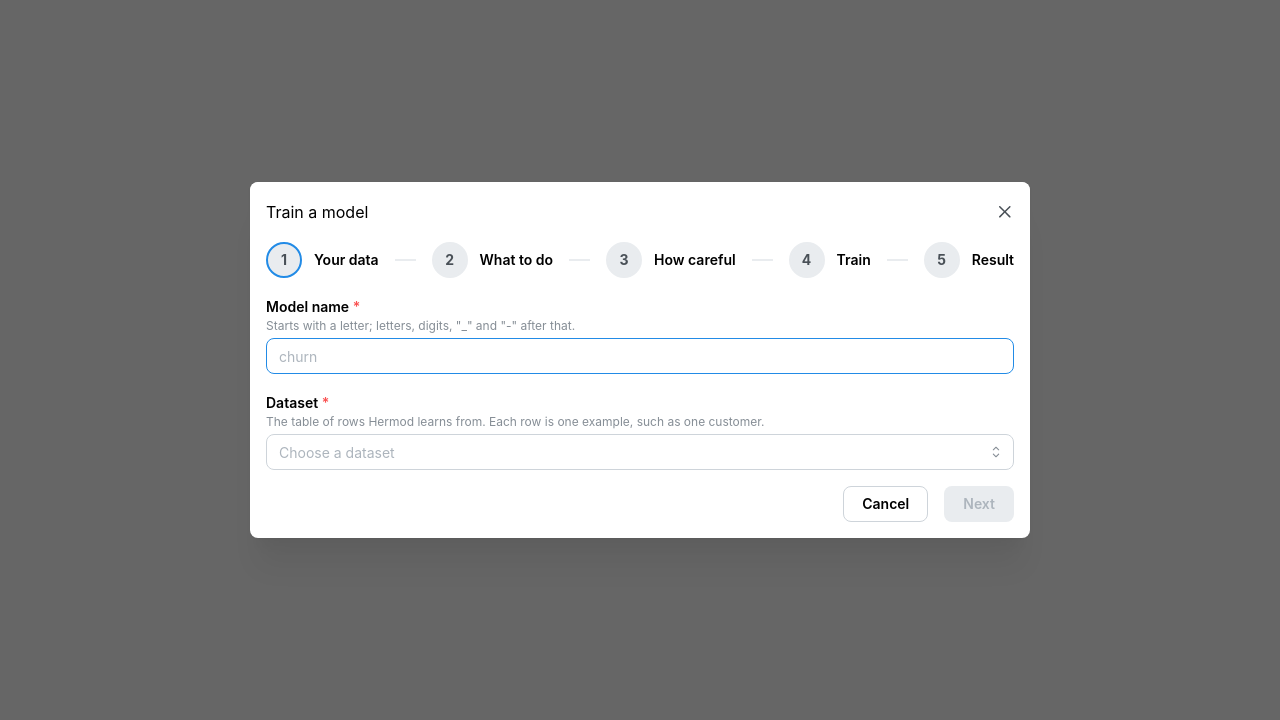
the checklist in the train flow › too few rows is red: Next is disabled and says why
The width and height of the screenshot is (1280, 720).
Type "m1" into the field labelled "Model name *" at point(640, 356), box [266,338,1014,374]
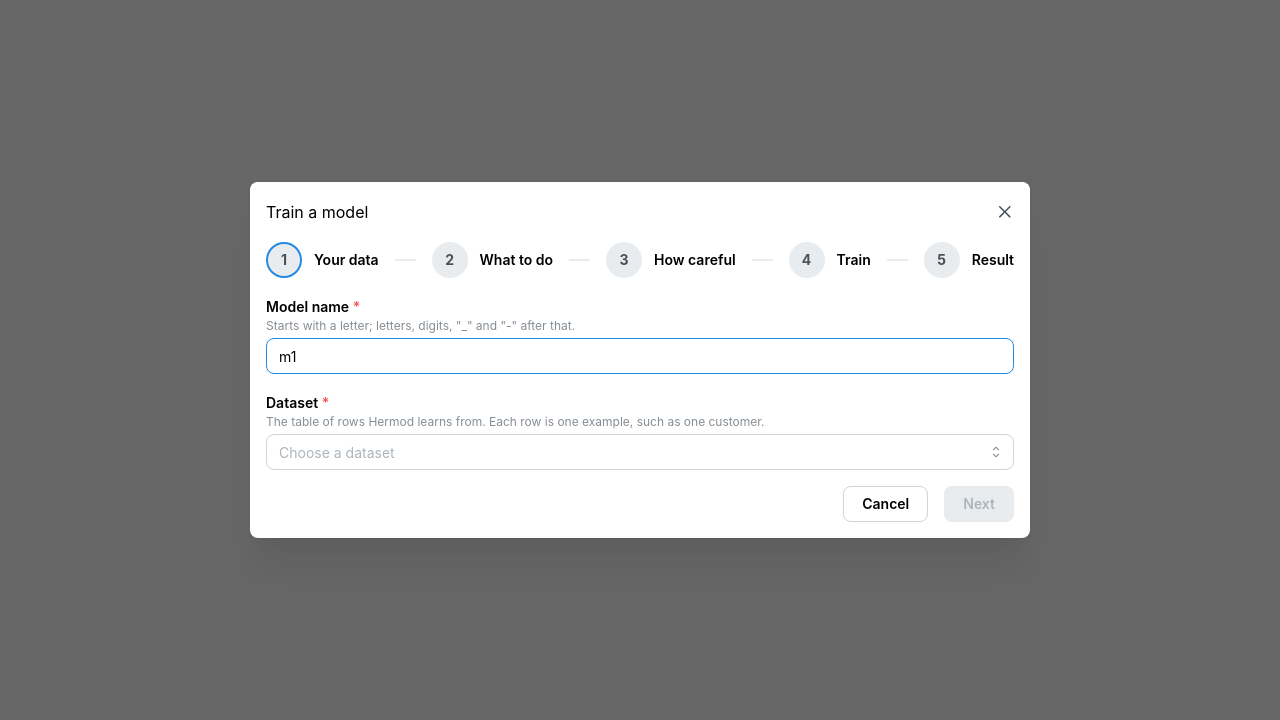
Click the dropdown labelled "Dataset *" at point(640, 452), box [266,434,1014,470]
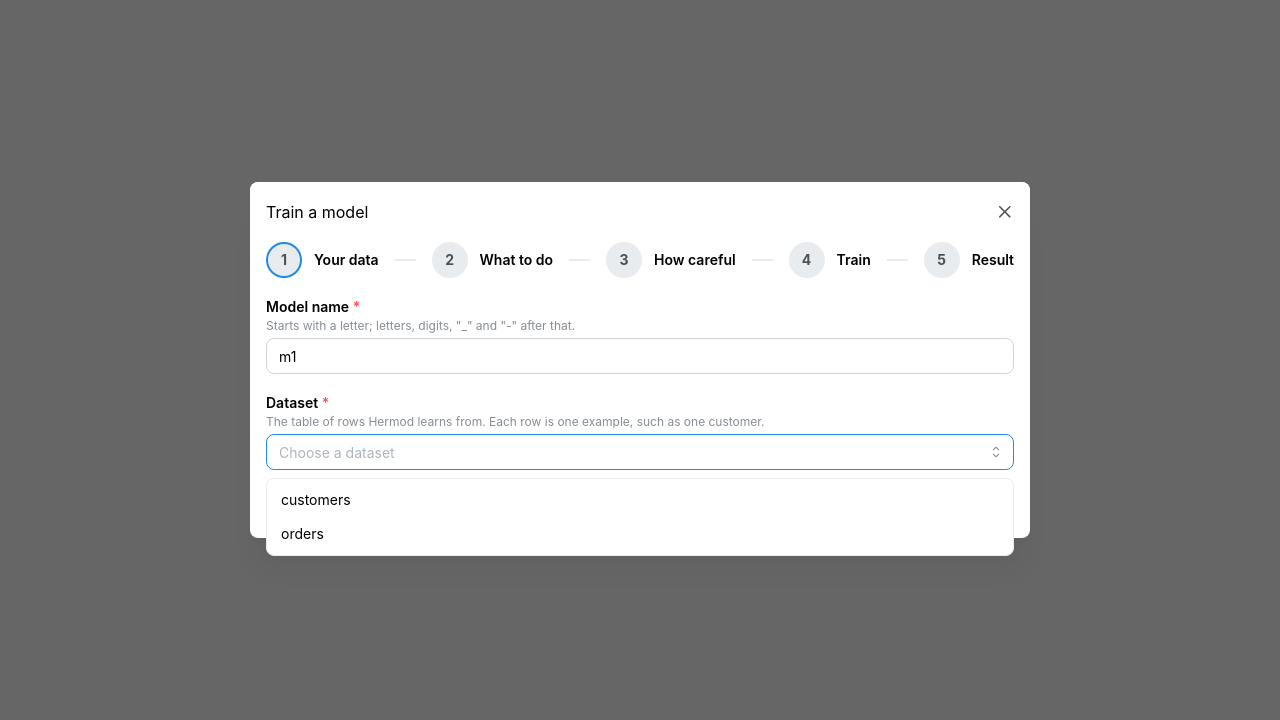
Click the option "customers" at point(316, 500), box [281,491,351,508]
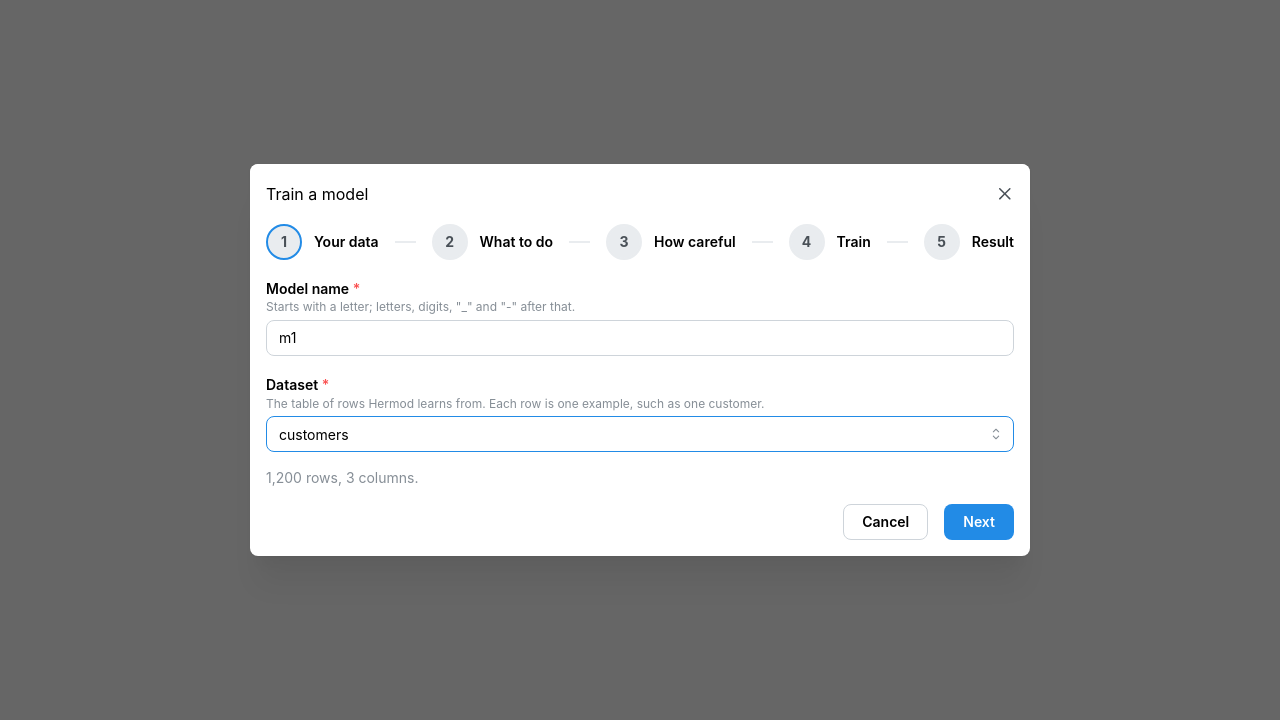
Click the button "Next" at point(979, 522), box [944,504,1014,540]
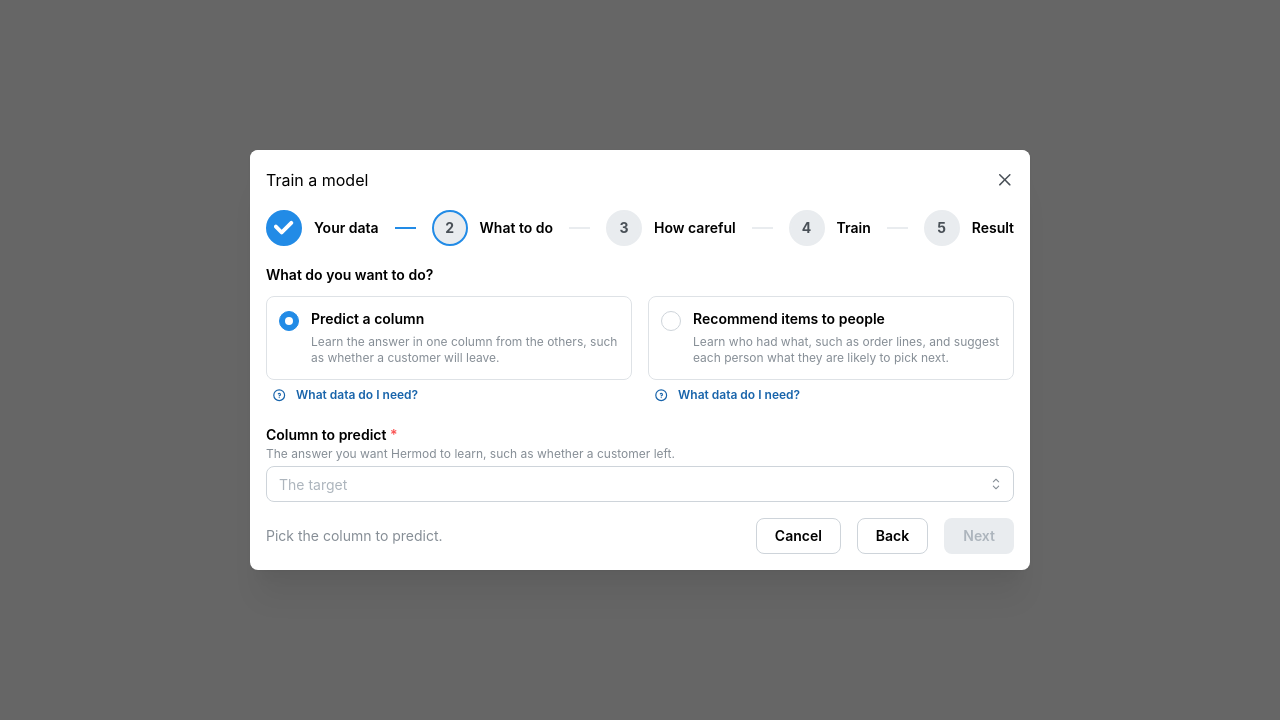
Click the dropdown labelled "Column to predict *" at point(640, 484), box [266,466,1014,502]
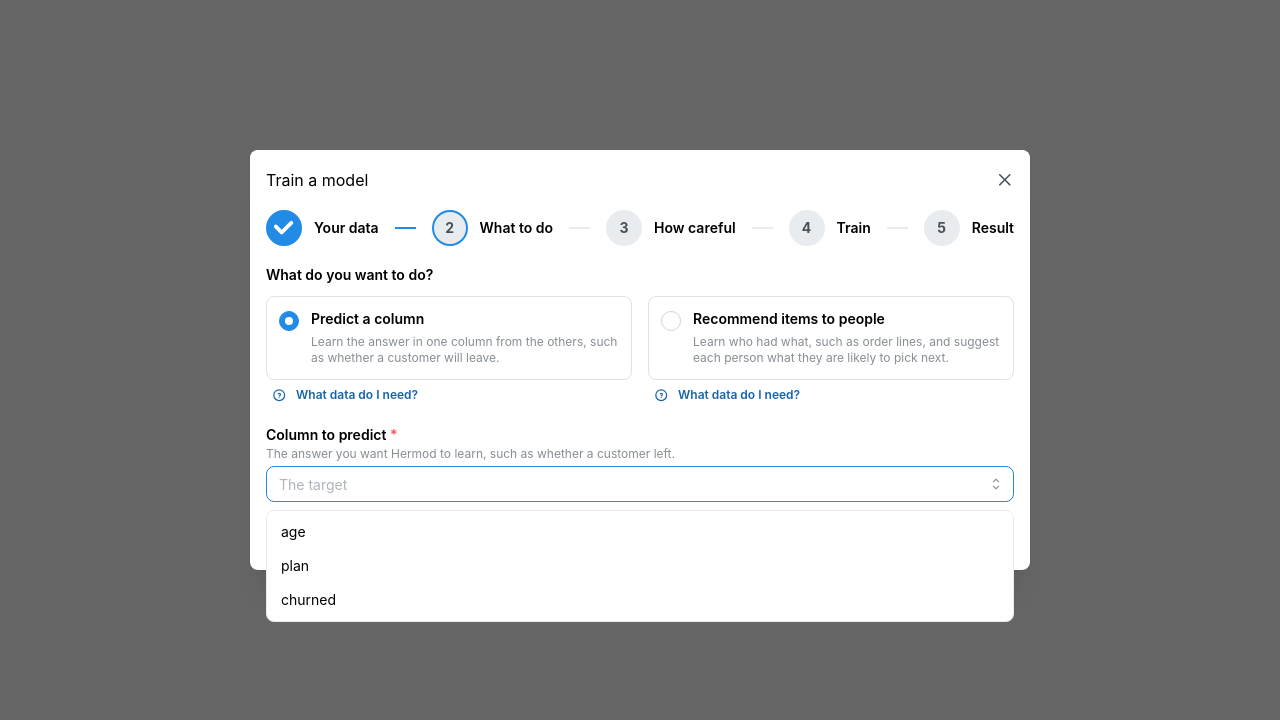
Click the option "churned" at point(309, 599), box [281,591,336,608]
(page scrolled)
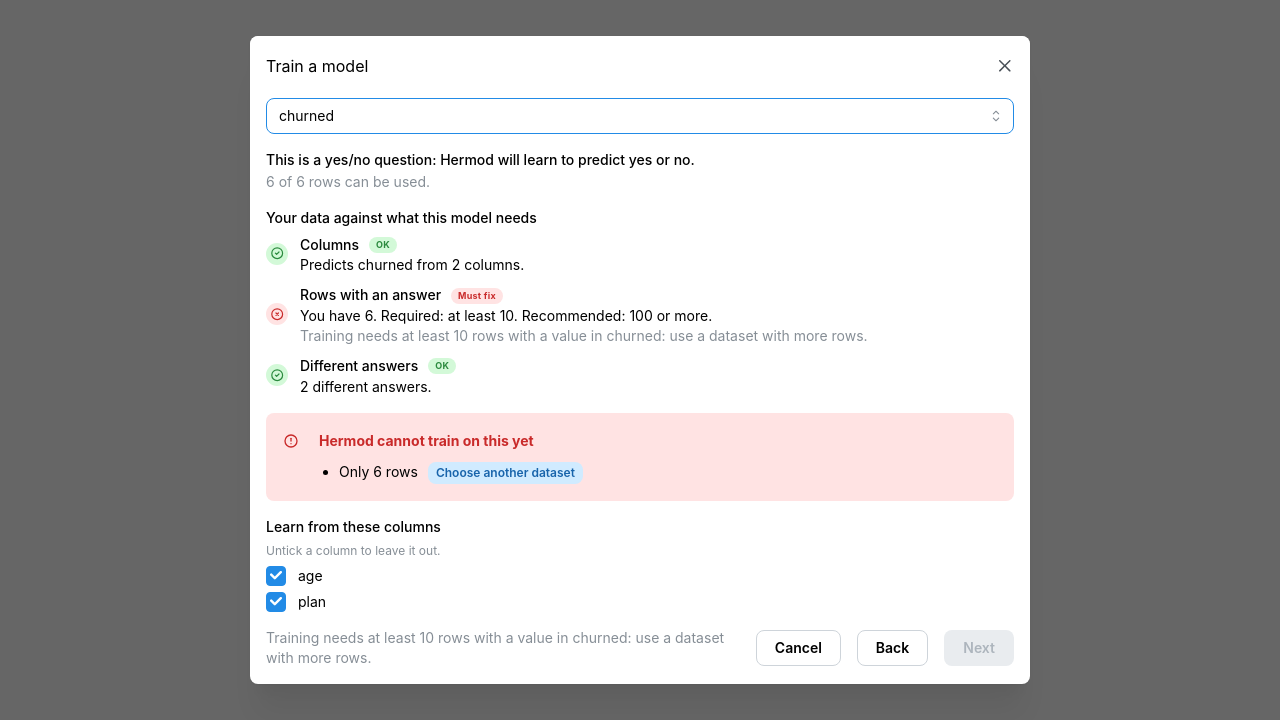
Expected: the button "Next" is disabled, [944,630,1014,666]
Expected: the list item that starts with "Rows with an answer" is shown, [266,286,868,344]
